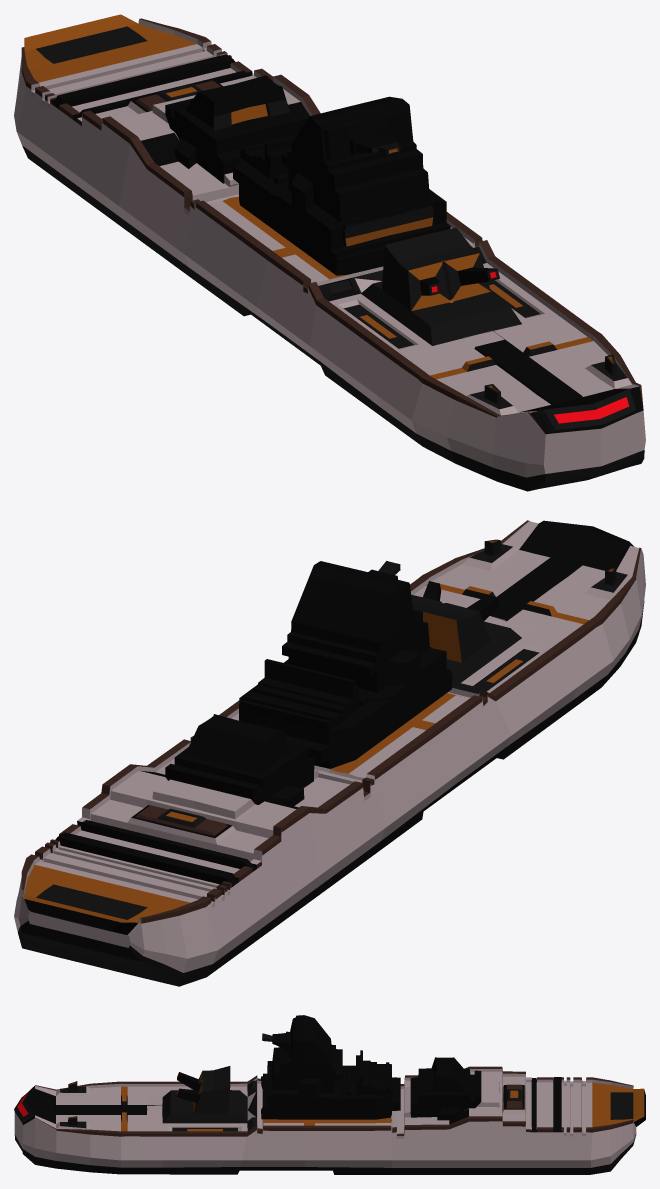
File: Cruiser v7.fbx
The picture shows the model from 3 angles, top to bottom: view 1: azimuth 30°, elevation 25°; view 2: azimuth 150°, elevation 25°; view 3: azimuth 270°, elevation 25°; orthographic projection. The views are drawn at different scales.
Parts seen in each view (by area): view 1: Cruiser.001; view 2: Cruiser.001; view 3: Cruiser.001.
Boxes of the visible parts, left/top/right/bottom form: Cruiser.001: left=14, top=14, right=645, bottom=491; Cruiser.001: left=14, top=520, right=645, bottom=986; Cruiser.001: left=14, top=1015, right=645, bottom=1174.
Size of the model in its own units: 89.81 by 86.46 by 409.
